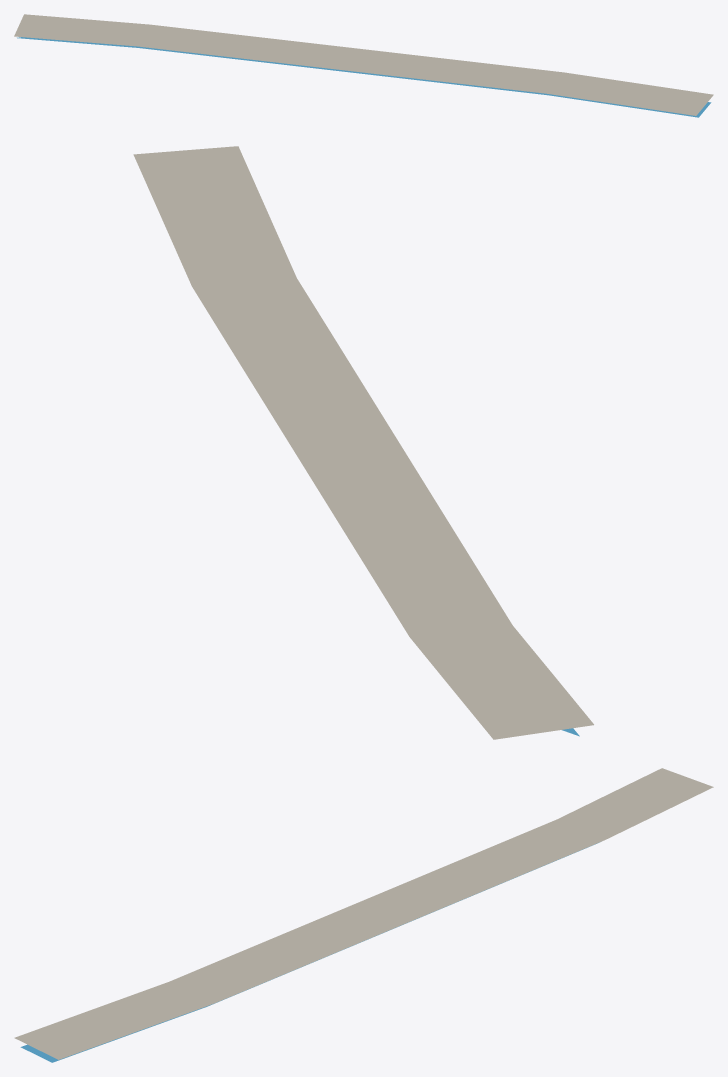
3 renders of one model, top to bottom at view 1: azimuth 30°, elevation 25°; view 2: azimuth 150°, elevation 25°; view 3: azimuth 270°, elevation 25°, orthographic. The views are drawn at different scales.
Parts seen in each view (by area): view 1: estructura_terreno, estructura_agua; view 2: estructura_terreno; view 3: estructura_terreno, estructura_agua.
Part boxes in pixels (x1=…): estructura_terreno: x1=14, y1=14, x2=713, y2=115; estructura_agua: x1=17, y1=37, x2=711, y2=117; estructura_terreno: x1=133, y1=146, x2=593, y2=739; estructura_terreno: x1=14, y1=768, x2=713, y2=1059; estructura_agua: x1=20, y1=842, x2=599, y2=1062.
Size of the model in its own units: 42.23 by 0.41 by 42.8.
